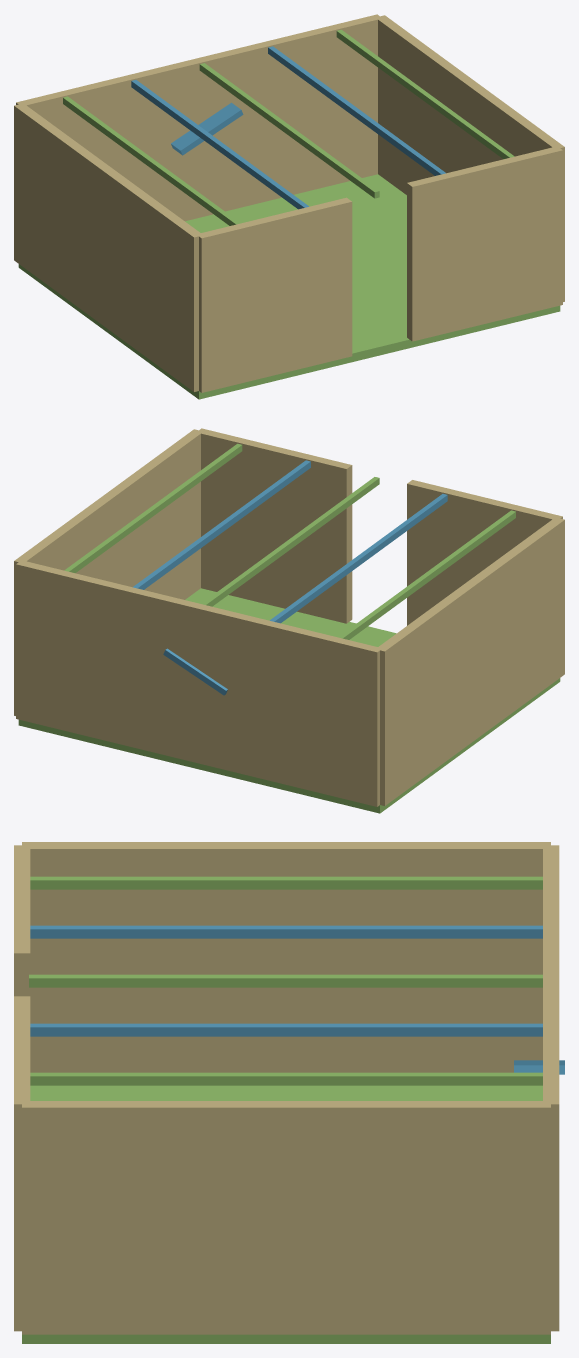
File: sky_observatory_main.glb
3 renders of one model, top to bottom at view 1: azimuth 30°, elevation 25°; view 2: azimuth 150°, elevation 25°; view 3: azimuth 270°, elevation 25°, orthographic. The views are drawn at different scales.
Visible parts, largest first — view 1: wall_north, wall_west, wall_south_right, wall_south_left, wall_east, floor, ceiling_beam_0, ceiling_beam_2, ceiling_beam_-1, ceiling_beam_1, ceiling_beam_-2, purpose_cloud_observatory; view 2: wall_north, wall_west, wall_south_right, wall_east, wall_south_left, floor, ceiling_beam_0, ceiling_beam_2, ceiling_beam_-1, ceiling_beam_1, ceiling_beam_-2, purpose_cloud_observatory; view 3: wall_east, wall_west, floor, ceiling_beam_0, ceiling_beam_-2, ceiling_beam_-1, ceiling_beam_1, ceiling_beam_2, wall_north, wall_south_right, wall_south_left.
Boxes of the visible parts, x1=… form: wall_north: x1=16, y1=14, x2=382, y2=221; wall_west: x1=14, y1=104, x2=203, y2=391; wall_south_right: x1=407, y1=146, x2=562, y2=341; wall_south_left: x1=199, y1=197, x2=352, y2=392; wall_east: x1=377, y1=15, x2=564, y2=301; floor: x1=18, y1=174, x2=560, y2=399; ceiling_beam_0: x1=199, y1=63, x2=379, y2=198; ceiling_beam_2: x1=336, y1=29, x2=514, y2=159; ceiling_beam_-1: x1=131, y1=80, x2=308, y2=209; ceiling_beam_1: x1=268, y1=46, x2=445, y2=175; ceiling_beam_-2: x1=63, y1=96, x2=240, y2=225; purpose_cloud_observatory: x1=171, y1=102, x2=243, y2=155; wall_north: x1=16, y1=561, x2=382, y2=806; wall_west: x1=376, y1=517, x2=564, y2=805; wall_south_right: x1=197, y1=428, x2=352, y2=623; wall_east: x1=14, y1=429, x2=203, y2=715; wall_south_left: x1=407, y1=480, x2=562, y2=625; floor: x1=18, y1=588, x2=560, y2=813; ceiling_beam_0: x1=201, y1=477, x2=379, y2=606; ceiling_beam_2: x1=64, y1=443, x2=242, y2=573; ceiling_beam_-1: x1=270, y1=494, x2=447, y2=623; ceiling_beam_1: x1=133, y1=460, x2=310, y2=589; ceiling_beam_-2: x1=338, y1=510, x2=515, y2=639; purpose_cloud_observatory: x1=163, y1=648, x2=227, y2=695; wall_east: x1=22, y1=1101, x2=550, y2=1334; wall_west: x1=22, y1=842, x2=550, y2=1072; floor: x1=22, y1=1085, x2=550, y2=1343; ceiling_beam_0: x1=29, y1=974, x2=542, y2=987; ceiling_beam_-2: x1=30, y1=876, x2=542, y2=889; ceiling_beam_-1: x1=30, y1=925, x2=542, y2=938; ceiling_beam_1: x1=30, y1=1023, x2=542, y2=1036; ceiling_beam_2: x1=30, y1=1072, x2=542, y2=1085; wall_north: x1=543, y1=845, x2=559, y2=1331; wall_south_right: x1=14, y1=996, x2=30, y2=1331; wall_south_left: x1=14, y1=845, x2=30, y2=996.
Size of what is drawn, in the model's own units: 13.55 by 5.7 by 11.88.
